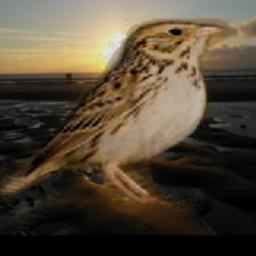Sparrow: (1, 20, 231, 204)
